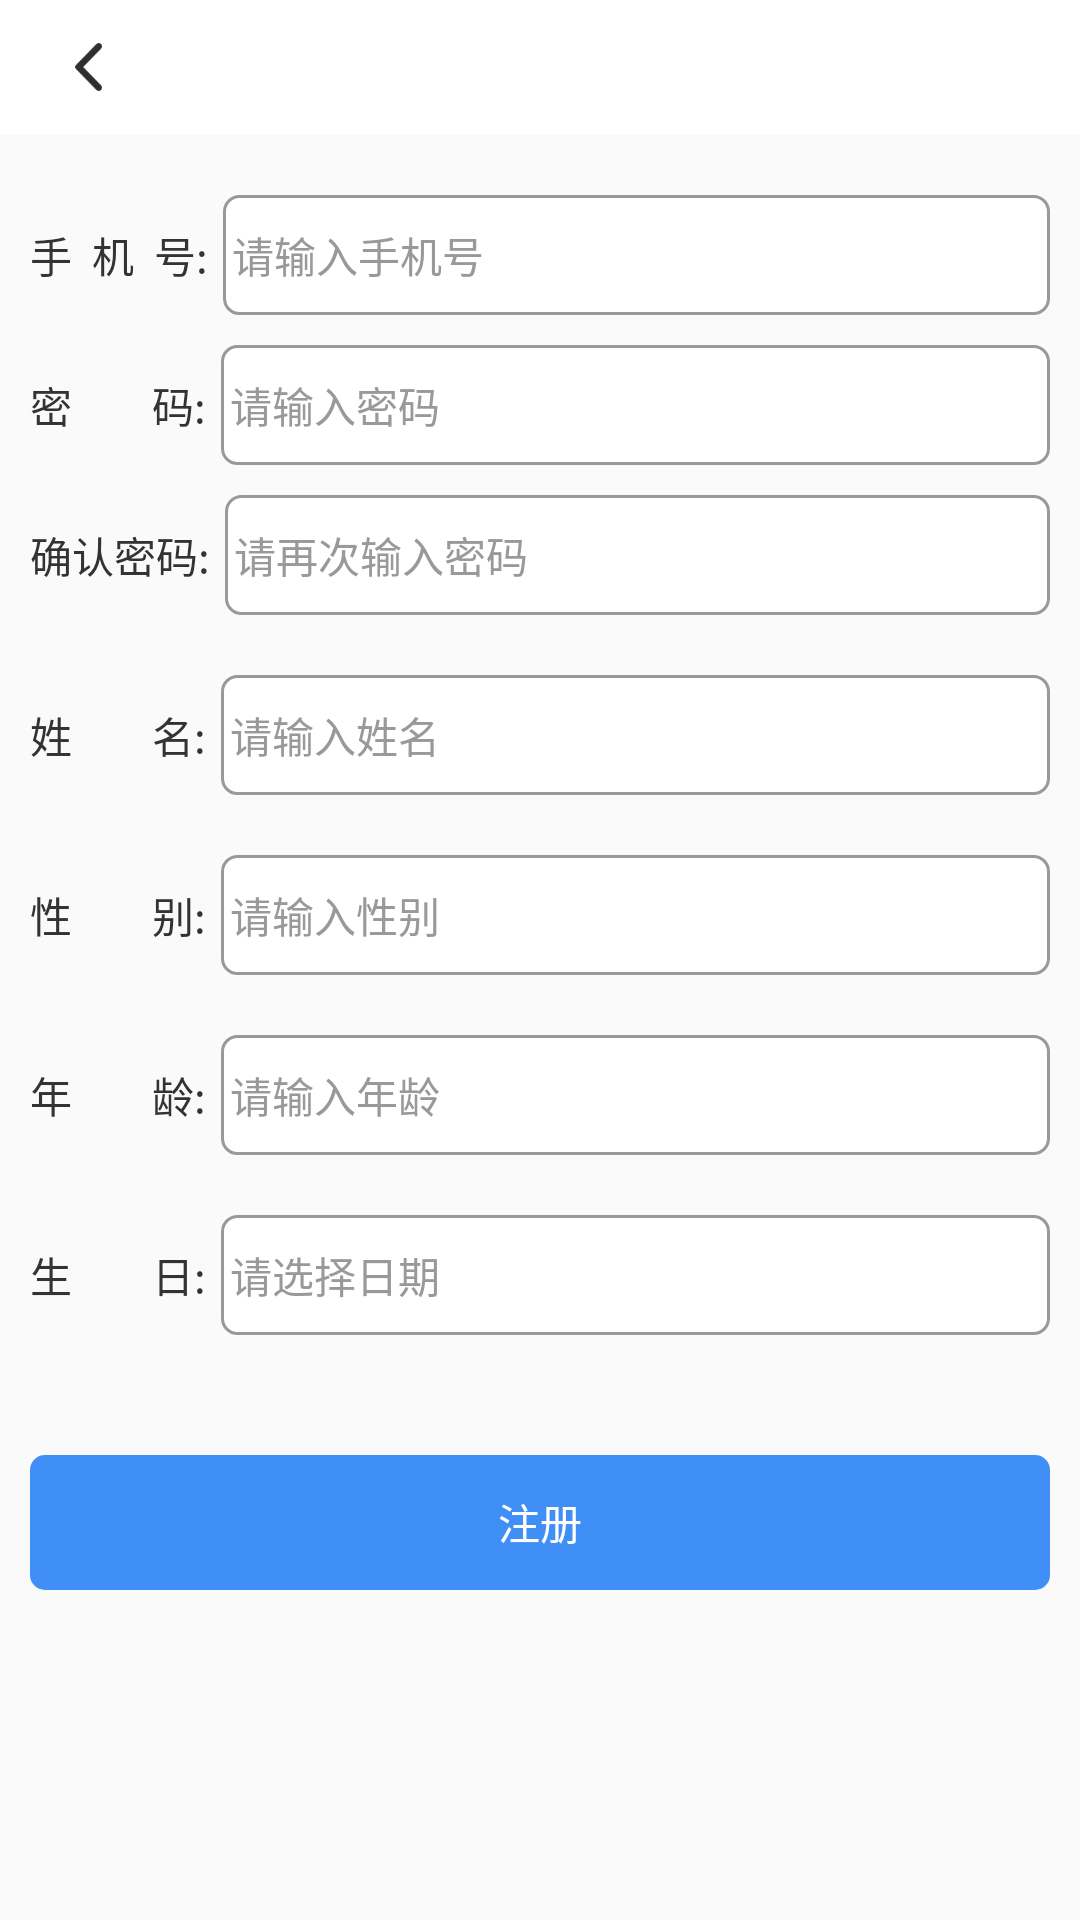

Locate icon controls on the screen. Image size 1080 × 1920, boxes as bbox=(x1, y1, x2, y2).
back: bbox=(75, 43, 102, 91)
